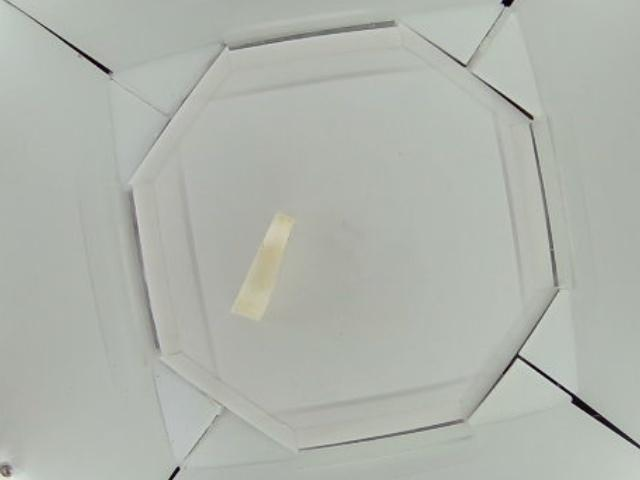Mooli: (230, 214, 295, 324)
